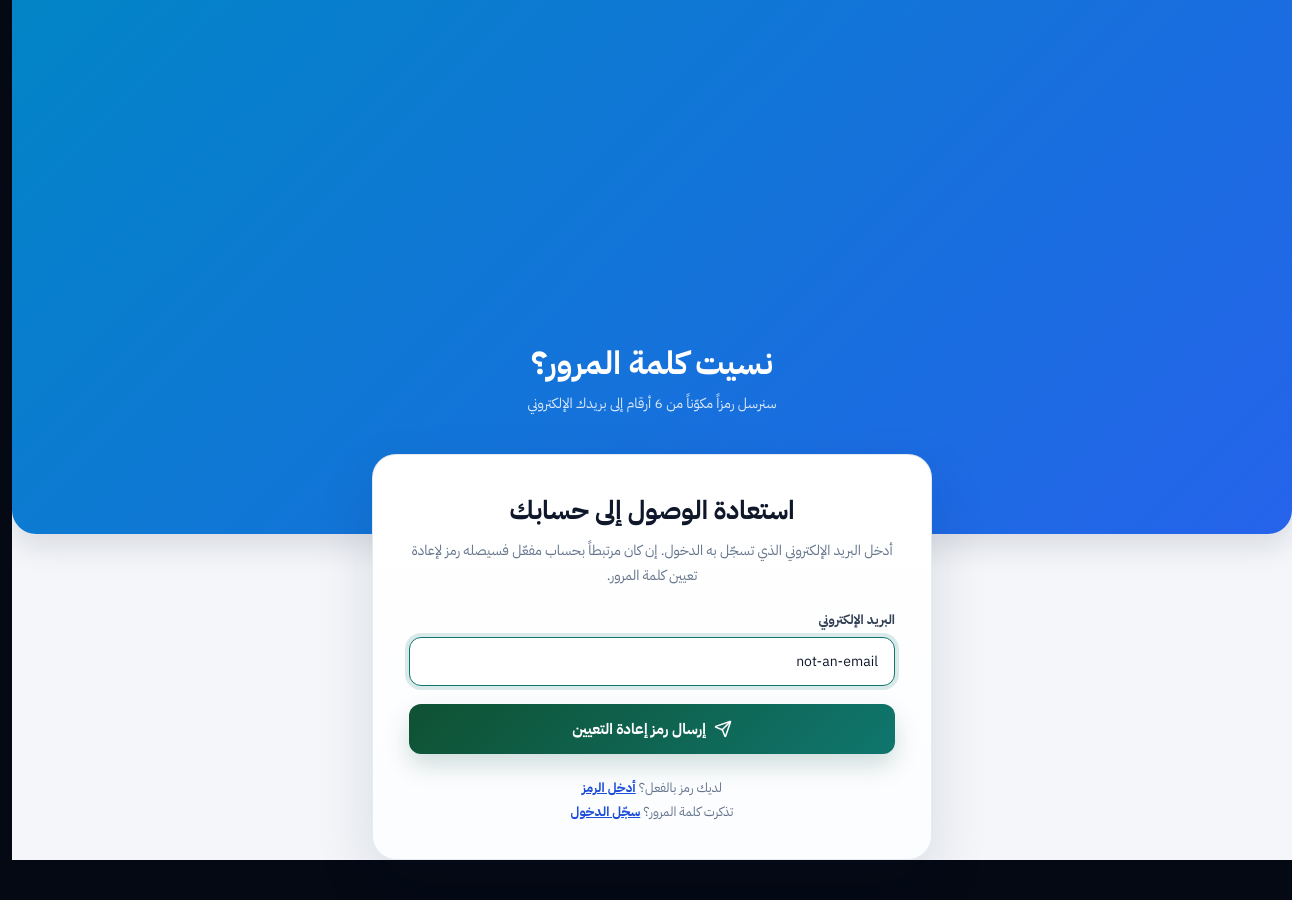
Scenario: forgot-password page › rejects a malformed address locally and sends nothing
Earlier steps of the test are not shown.
(page scrolled)
Click the button "إرسال رمز إعادة التعيين".
click(652, 729)  # box x1=409 y1=704 x2=895 y2=754
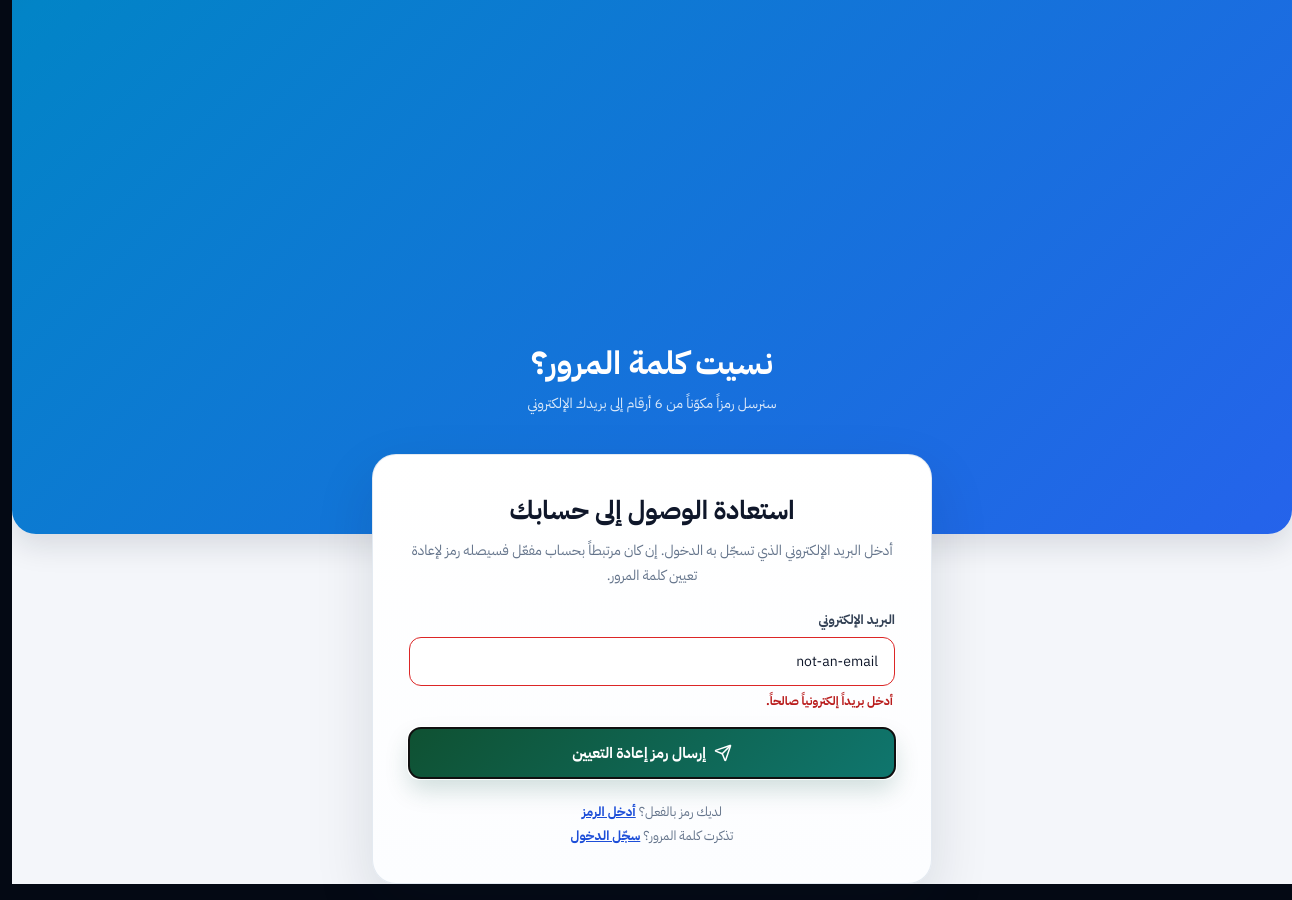
Expected: the text "أدخل بريداً إلكترونياً صالحاً." is shown, x1=766 y1=692 x2=893 y2=710
